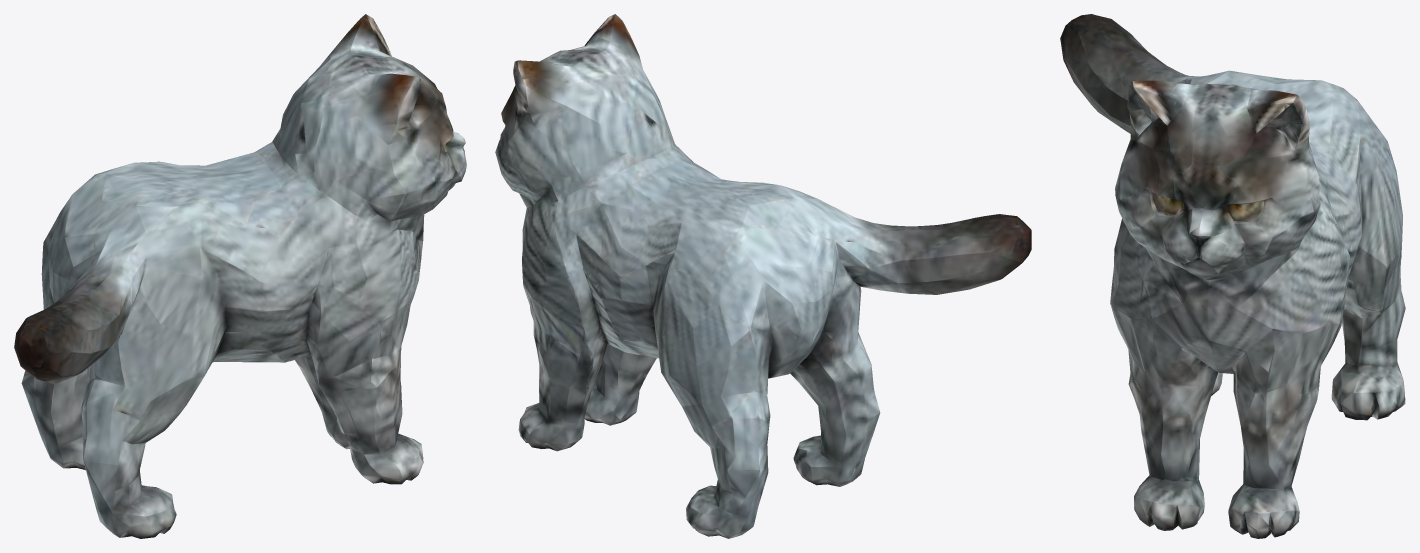
The model's file is TOMRUTGERS-lo.glb.
3 views of the same model, side by side, from view 1: azimuth 30°, elevation 25°; view 2: azimuth 150°, elevation 25°; view 3: azimuth 270°, elevation 25° (orthographic). The views are drawn at different scales.
Parts seen in each view (by area): view 1: fit; view 2: fit; view 3: fit.
Part boxes in pixels (x1,y1,x2,y2): fit: [14, 14, 466, 538]; fit: [495, 14, 1031, 538]; fit: [1060, 14, 1405, 538].
Bounding box in the file's own units: 1.27 × 0.9997 × 0.7081.
1 material, 1 textured.
